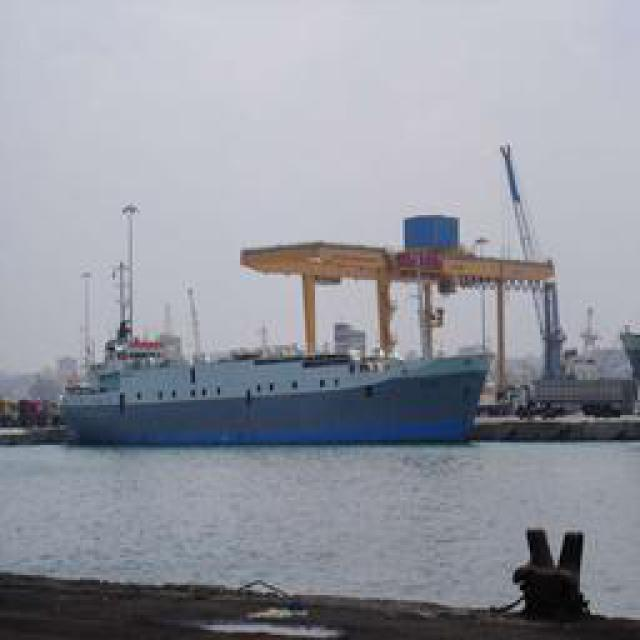Ship: (59, 257, 492, 447)
